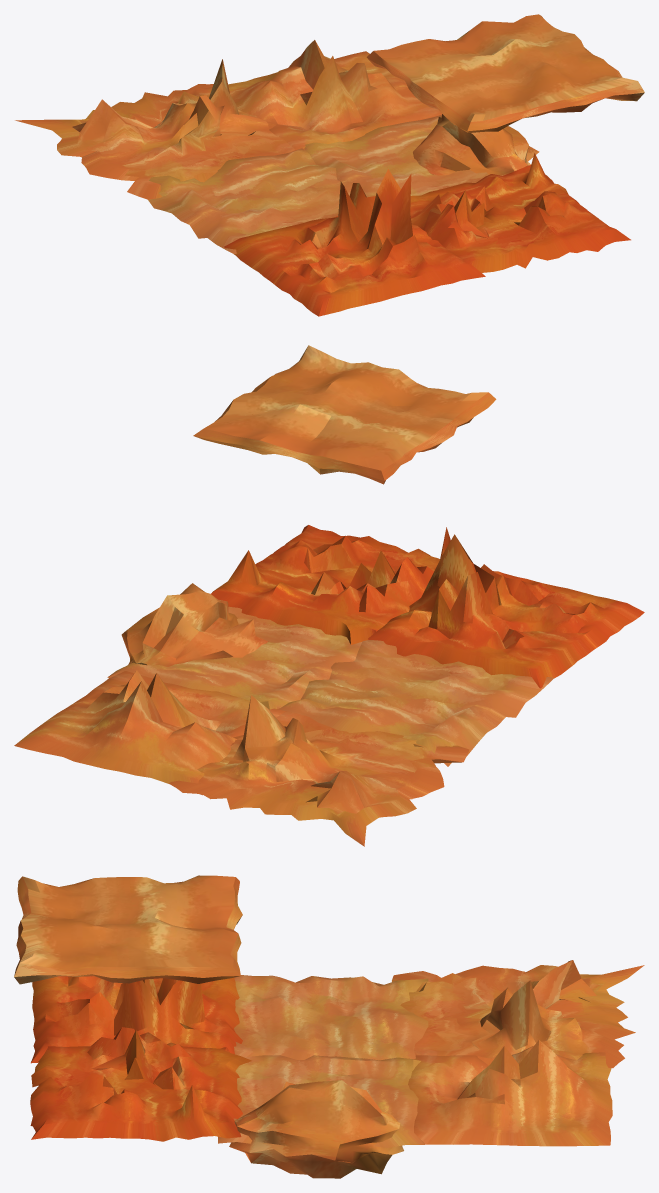
The model's file is billbg.fbx.
The picture shows the model from 3 angles, top to bottom: view 1: azimuth 30°, elevation 25°; view 2: azimuth 150°, elevation 25°; view 3: azimuth 270°, elevation 25°; orthographic projection. The views are drawn at different scales.
Parts seen in each view (by area): view 1: Platform_001_Obj, Obstacle_003_Obj, Obstacle_001_Obj, Obstacle_004_Obj, Obstacle_002_Obj, Path_001_Obj, Path_002_Obj, angleSmoother_001_Obj; view 2: Platform_001_Obj, Obstacle_001_Obj, Obstacle_003_Obj, Path_001_Obj, Obstacle_002_Obj, Obstacle_004_Obj, Path_002_Obj, angleSmoother_001_Obj; view 3: Platform_001_Obj, Obstacle_004_Obj, Obstacle_002_Obj, Obstacle_001_Obj, Path_001_Obj, Obstacle_003_Obj, angleSmoother_001_Obj, Path_002_Obj.
Part boxes in pixels (<box>): Platform_001_Obj: <box>366,14,644,132</box>; Obstacle_003_Obj: <box>224,169,485,316</box>; Obstacle_001_Obj: <box>15,59,304,199</box>; Obstacle_004_Obj: <box>410,153,630,279</box>; Obstacle_002_Obj: <box>202,40,441,149</box>; Path_001_Obj: <box>148,148,352,253</box>; Path_002_Obj: <box>304,115,505,197</box>; angleSmoother_001_Obj: <box>413,114,539,175</box>; Platform_001_Obj: <box>193,345,496,484</box>; Obstacle_001_Obj: <box>169,695,469,846</box>; Obstacle_003_Obj: <box>368,527,644,688</box>; Path_001_Obj: <box>279,640,554,766</box>; Obstacle_002_Obj: <box>14,670,285,795</box>; Obstacle_004_Obj: <box>211,525,439,644</box>; Path_002_Obj: <box>107,606,368,709</box>; angleSmoother_001_Obj: <box>121,583,267,666</box>; Platform_001_Obj: <box>14,875,242,984</box>; Obstacle_004_Obj: <box>30,1027,251,1141</box>; Obstacle_002_Obj: <box>400,1040,612,1146</box>; Obstacle_001_Obj: <box>392,960,644,1068</box>; Path_001_Obj: <box>234,975,428,1060</box>; Obstacle_003_Obj: <box>31,976,242,1063</box>; angleSmoother_001_Obj: <box>229,1080,403,1178</box>; Path_002_Obj: <box>218,1055,424,1147</box>.
Size of the model in its own units: 125 by 72.48 by 172.
